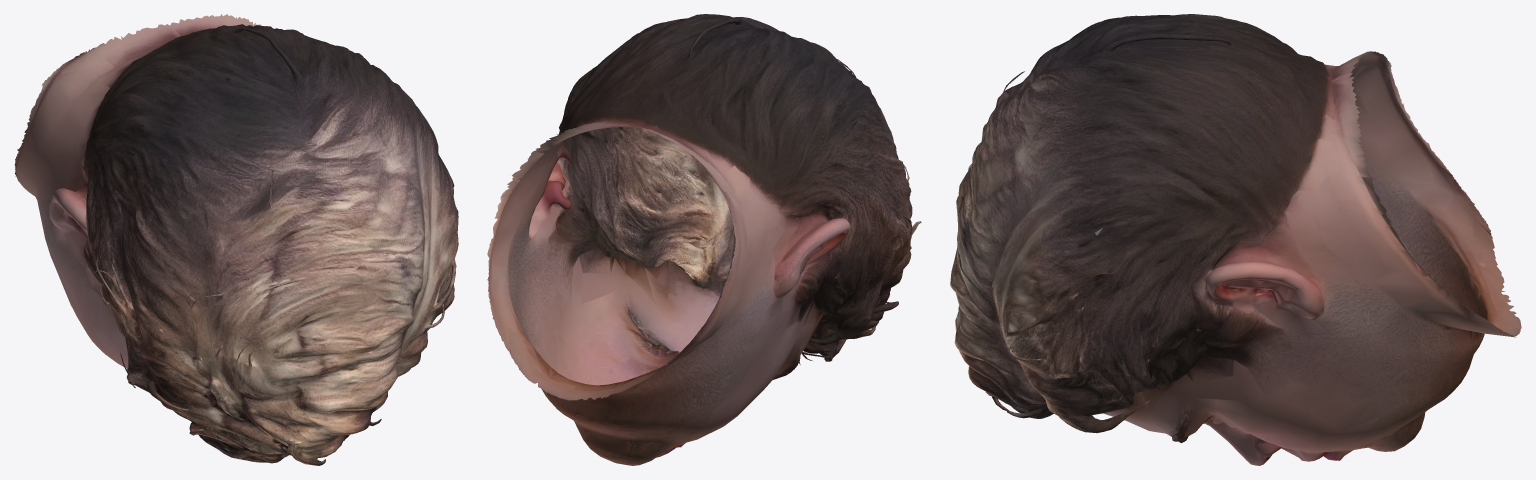
The model's file is before.glb.
The picture shows the model from 3 angles, left to right: view 1: azimuth 30°, elevation 25°; view 2: azimuth 150°, elevation 25°; view 3: azimuth 270°, elevation 25°; orthographic projection. The views are drawn at different scales.
Parts seen in each view (by area): view 1: Meshy_AI_Contemplative_Close_U_0314073257_texture; view 2: Meshy_AI_Contemplative_Close_U_0314073257_texture; view 3: Meshy_AI_Contemplative_Close_U_0314073257_texture.
Boxes of the visible parts, box(x1,y1,x2,y2) form: Meshy_AI_Contemplative_Close_U_0314073257_texture: box(14, 14, 458, 465); Meshy_AI_Contemplative_Close_U_0314073257_texture: box(487, 14, 921, 465); Meshy_AI_Contemplative_Close_U_0314073257_texture: box(950, 14, 1521, 465).
Size of the model in its own units: 1.17 by 1.3 by 1.56.
1 material, 1 textured.
